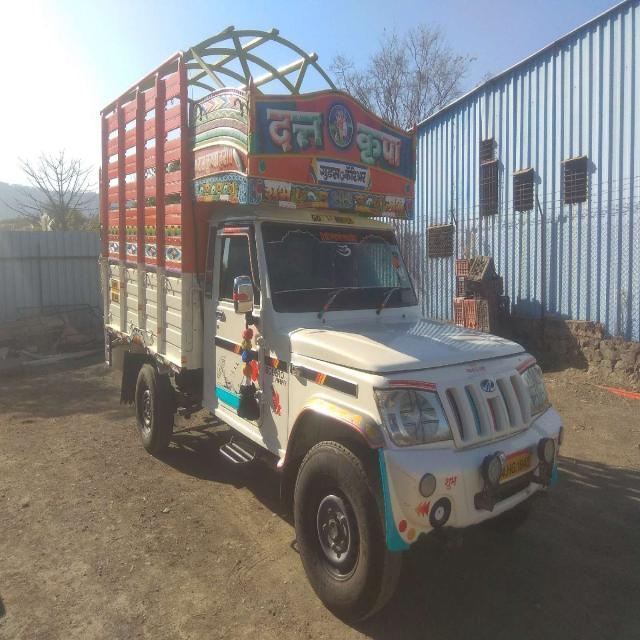light_vehicle: (90, 90, 556, 541)
